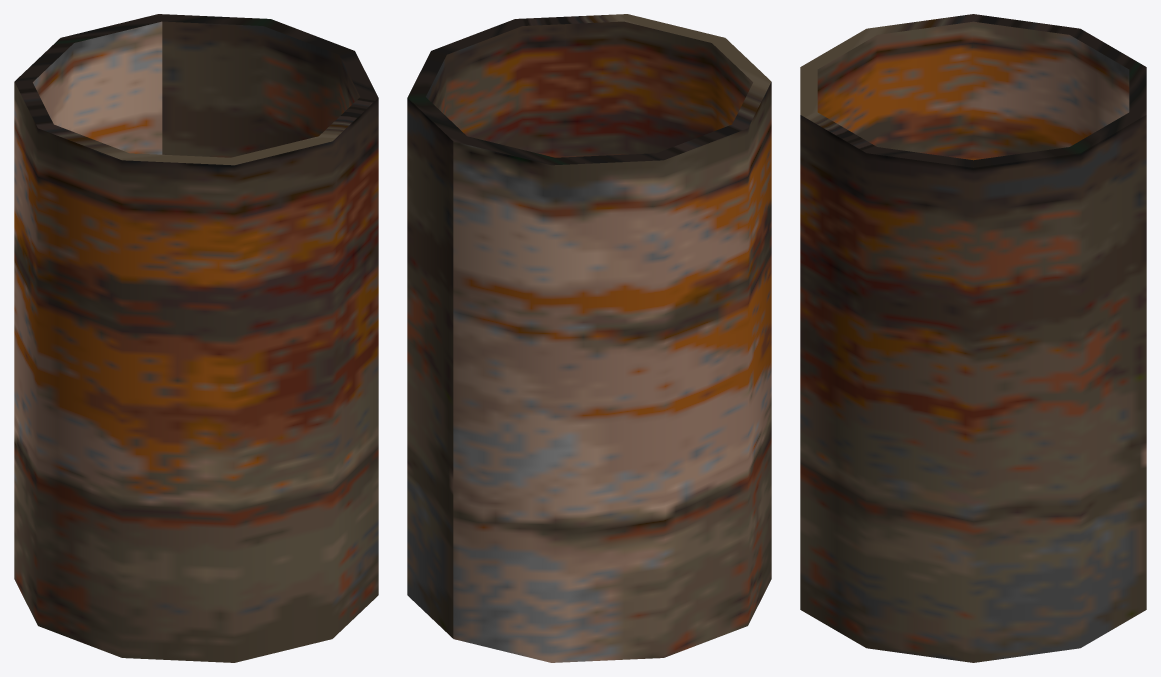
File: barrel.FBX
The picture shows the model from 3 angles, left to right: view 1: azimuth 30°, elevation 25°; view 2: azimuth 150°, elevation 25°; view 3: azimuth 270°, elevation 25°; orthographic projection.
Parts seen in each view (by area): view 1: barrel; view 2: barrel; view 3: barrel.
Part boxes in pixels (x1,y1,x2,y2): barrel: (14,14,378,662); barrel: (407,14,771,662); barrel: (800,14,1146,662).
Size of the model in its own units: 100 by 95.11 by 150.
